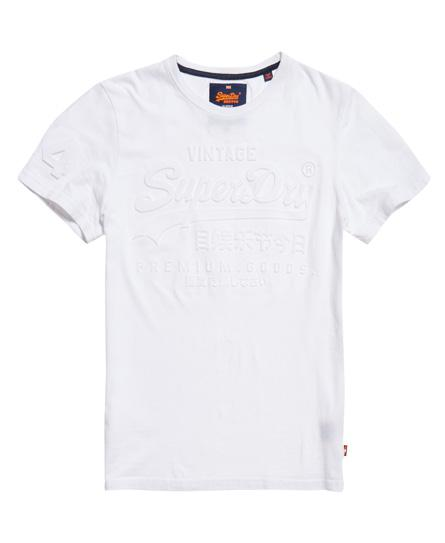teeshirt: (22, 50, 441, 504)
